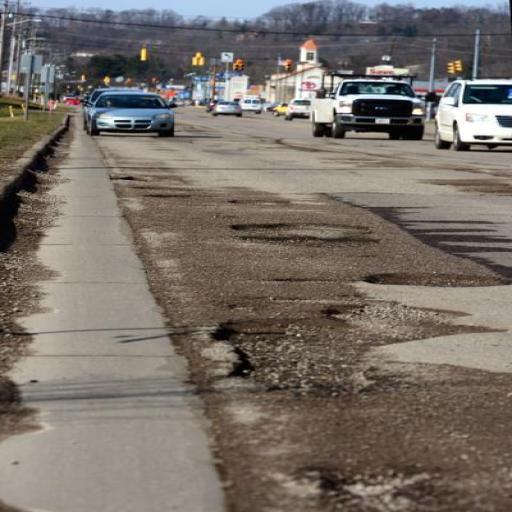hole: (224, 320, 370, 397), (333, 294, 459, 340), (325, 475, 430, 512), (237, 233, 374, 249), (229, 223, 316, 226)
